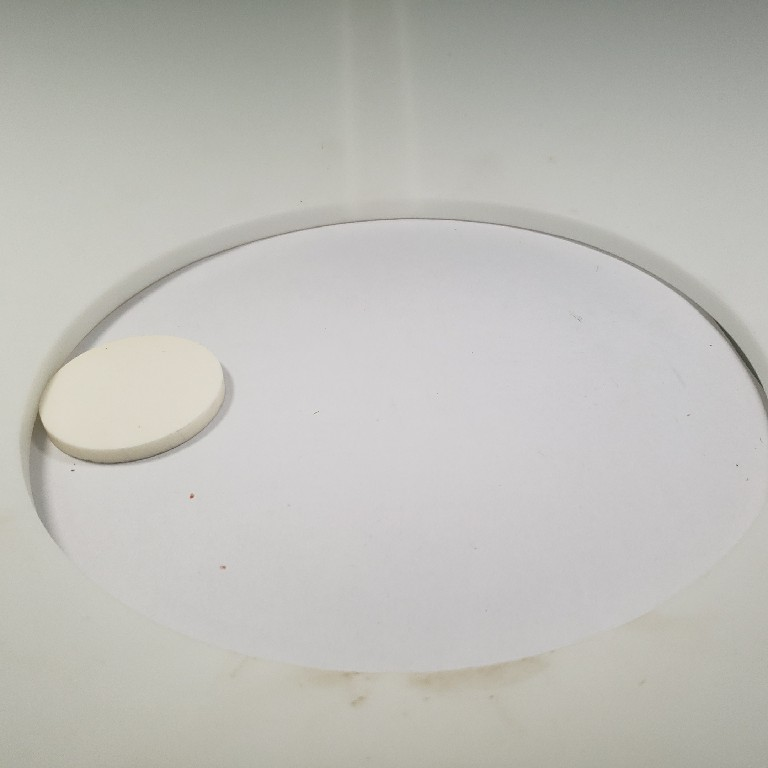ceramics: (29, 332, 235, 465)
